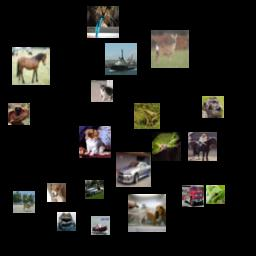automobile: (116, 152, 151, 187), (85, 180, 104, 199)
cat: (87, 6, 119, 38), (91, 80, 113, 102)
deer: (151, 30, 189, 68), (13, 191, 35, 213)
dog: (128, 194, 166, 232), (79, 126, 111, 158), (202, 96, 224, 118), (47, 183, 66, 202)
frog: (152, 132, 181, 161), (134, 103, 160, 129), (8, 103, 30, 125), (206, 185, 225, 204), (57, 212, 76, 231)
ship: (105, 43, 137, 75), (91, 216, 110, 235)
truck: (182, 185, 204, 207)
